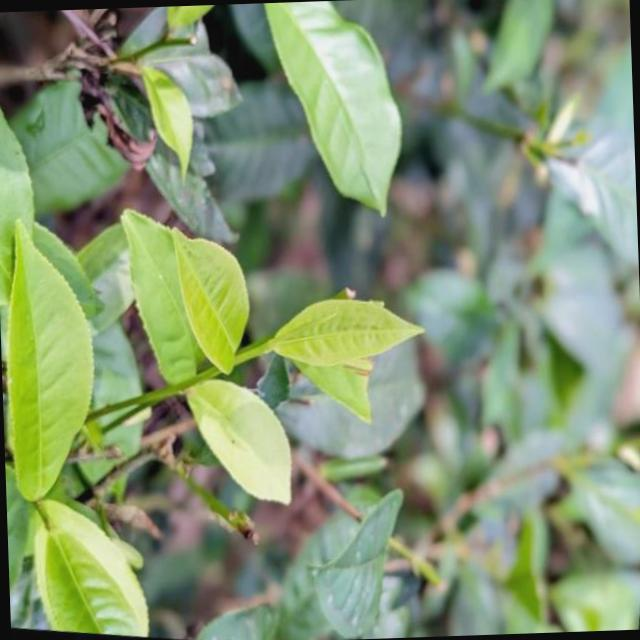Stem: (207, 367, 217, 374)
